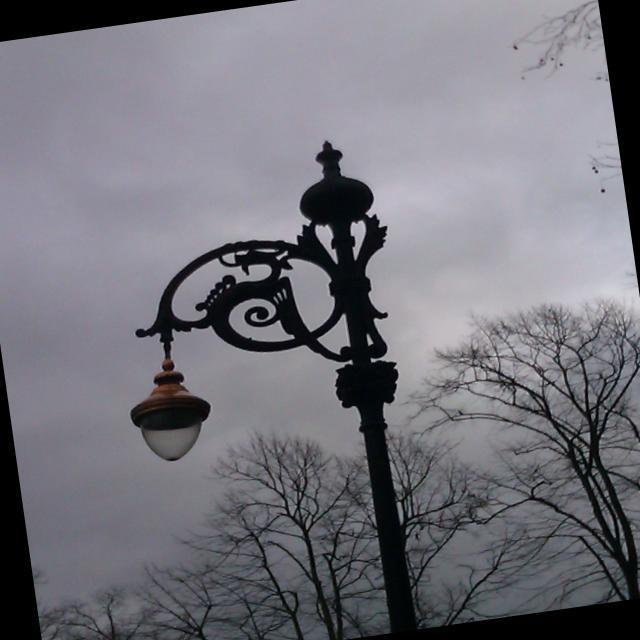off: (102, 372, 263, 470)
